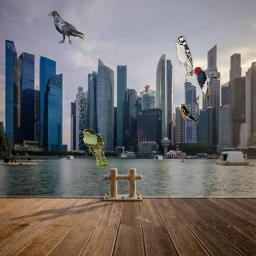Crow: (48, 10, 86, 45)
Cuckoo: (79, 129, 108, 169)
Swallow: (179, 105, 198, 123)
Woodpecker: (175, 36, 193, 76), (191, 67, 212, 101)
